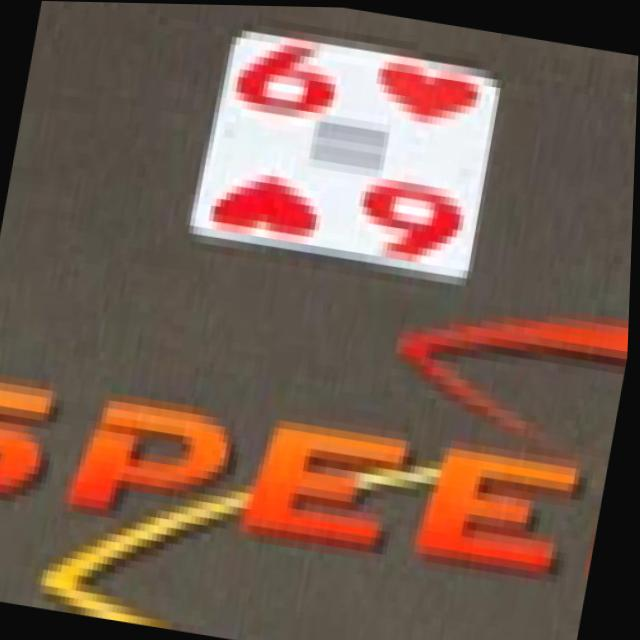Card-6: (192, 29, 499, 283)
